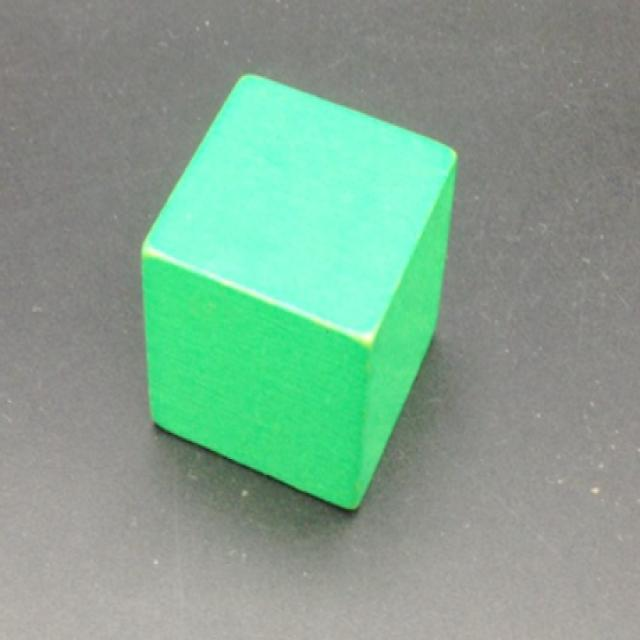green cube: (141, 74, 459, 514)
